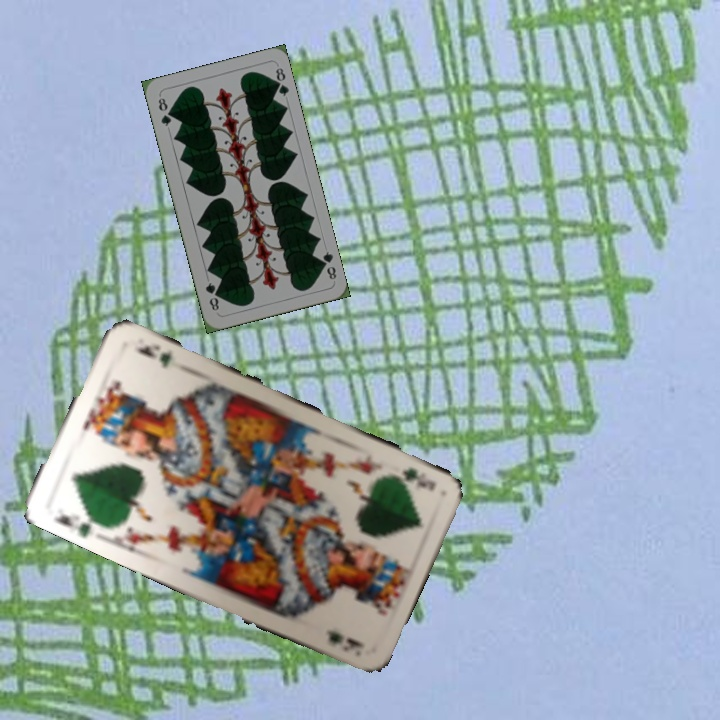G8: (315, 247, 339, 282), (154, 92, 174, 129)
GK: (383, 463, 439, 494), (49, 510, 104, 540)
